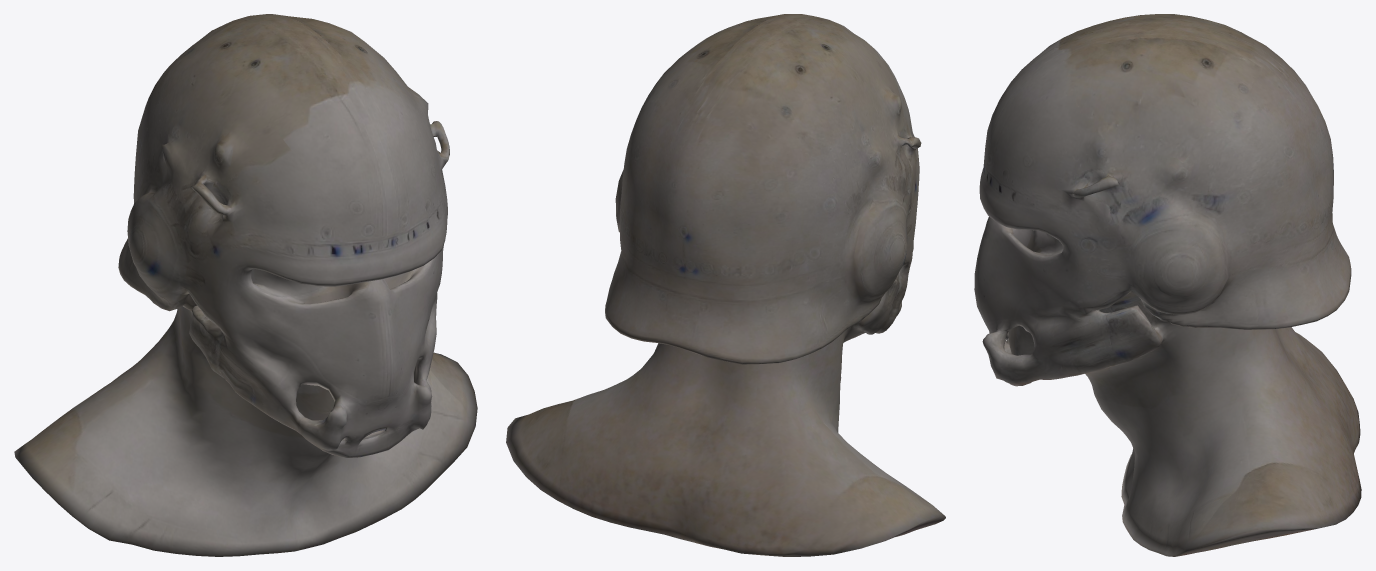
File: Steel Helmet.glb
The picture shows the model from 3 angles, left to right: view 1: azimuth 30°, elevation 25°; view 2: azimuth 150°, elevation 25°; view 3: azimuth 270°, elevation 25°; orthographic projection. The views are drawn at different scales.
Parts seen in each view (by area): view 1: file1; view 2: file1; view 3: file1.
Boxes of the visible parts, x1=… form: file1: x1=14, y1=14, x2=477, y2=556; file1: x1=506, y1=14, x2=945, y2=556; file1: x1=974, y1=14, x2=1361, y2=556.
Bounding box in the file's own units: 1.8 × 2 × 1.46.
Materials: 1 (1 with a texture image).
